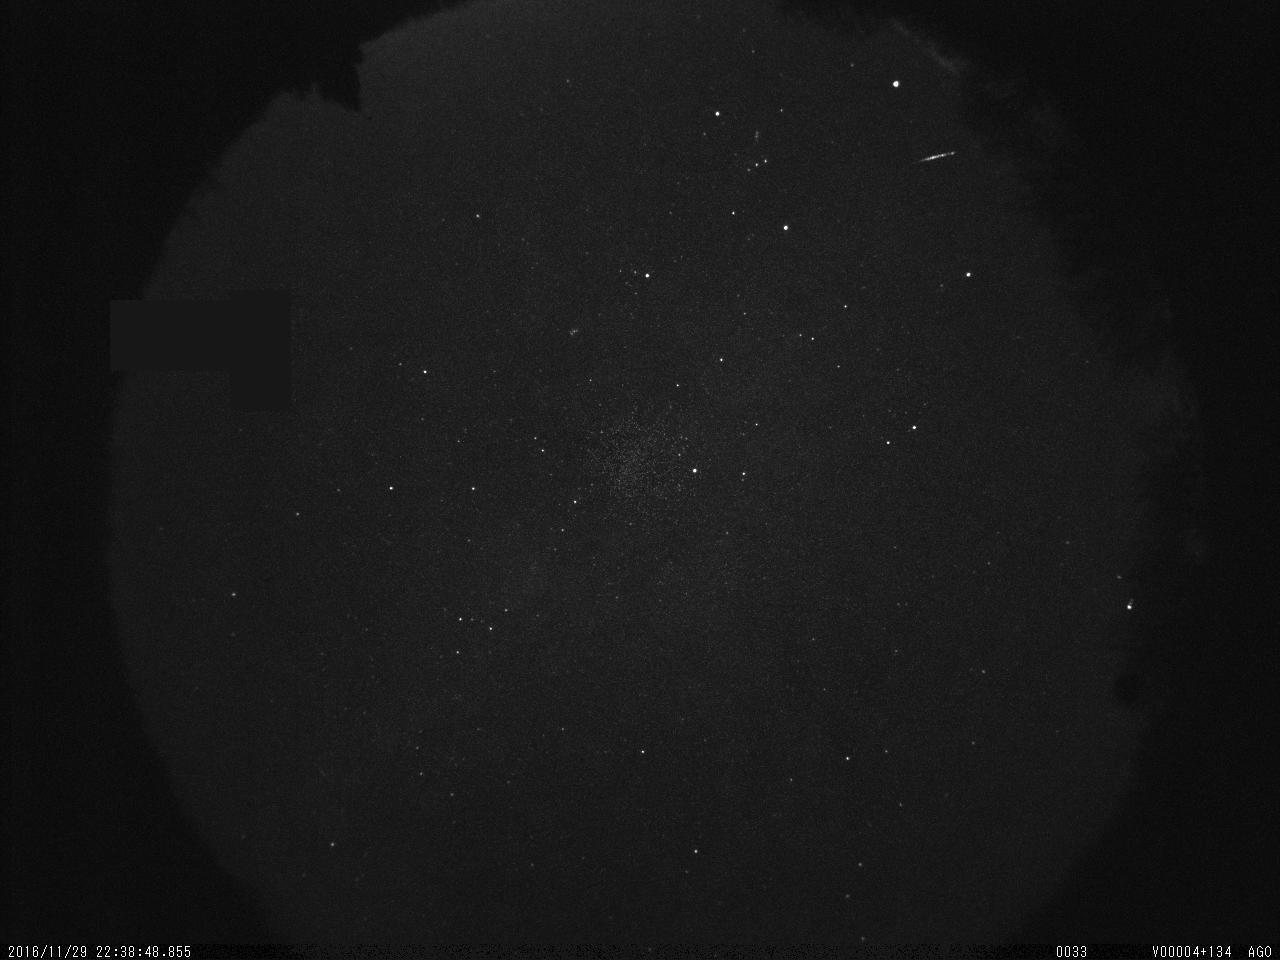meteor: (900, 129, 972, 181)
